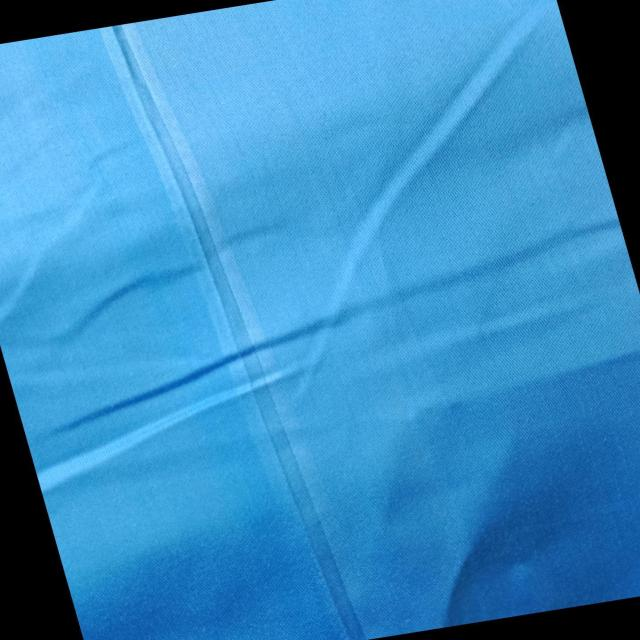selvet: (98, 12, 372, 640)
